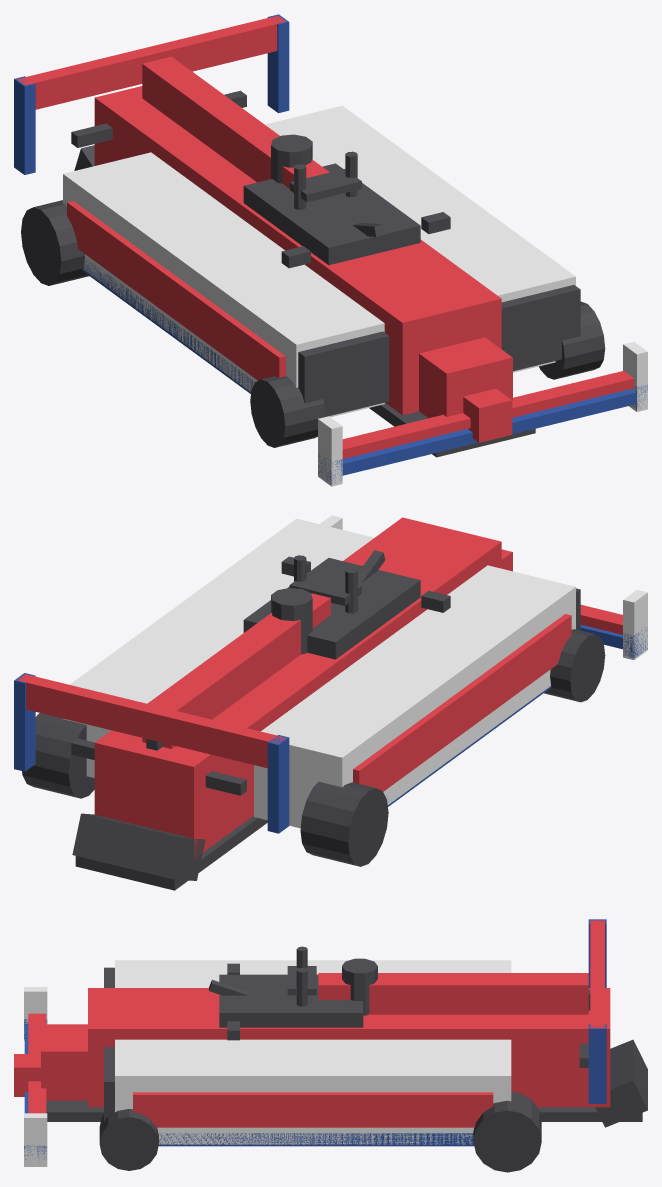
File: playerCar.glb
The picture shows the model from 3 angles, top to bottom: view 1: azimuth 30°, elevation 25°; view 2: azimuth 150°, elevation 25°; view 3: azimuth 270°, elevation 25°; orthographic projection. The views are drawn at different scales.
Parts seen in each view (by area): view 1: playerCar; view 2: playerCar; view 3: playerCar.
Part boxes in pixels (left/top/right/bottom): playerCar: left=14, top=14, right=647, bottom=486; playerCar: left=14, top=515, right=647, bottom=890; playerCar: left=14, top=919, right=647, bottom=1172.
Size of the model in its own units: 1.78 by 0.9042 by 3.52.
